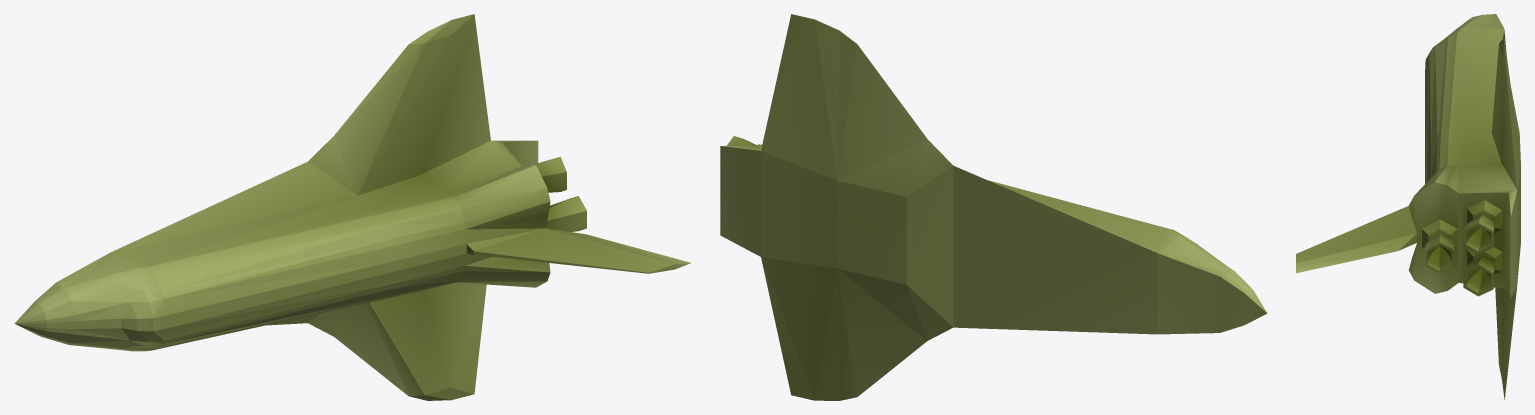
File: shuttleC.obj
3 views of the same model, side by side, from view 1: azimuth 30°, elevation 25°; view 2: azimuth 150°, elevation 25°; view 3: azimuth 270°, elevation 25° (orthographic). The views are drawn at different scales.
Size of the model in its own units: 14.69 by 9.36 by 5.51.
